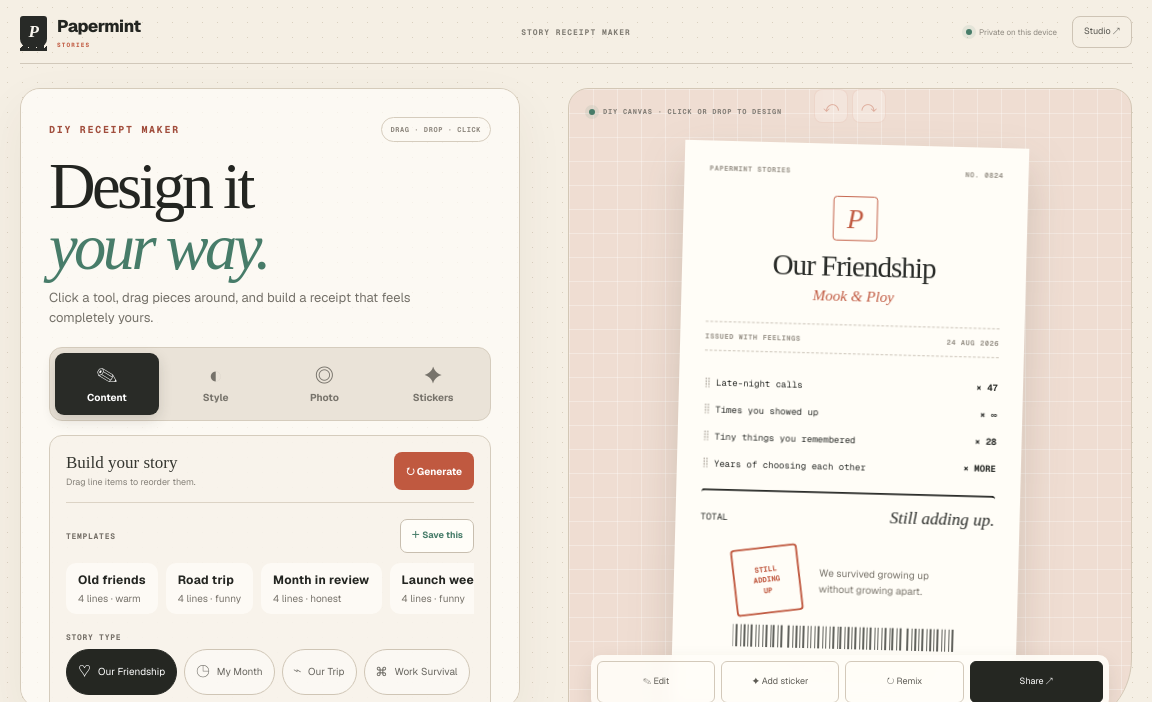
story kind › choosing a kind retitles the receipt and reseeds the name
Expected: the element with id "story-receipt" shows "Our Friendship", [772, 248, 936, 285]
Click the button "⌁ Our Trip" at (319, 672), box [282, 649, 356, 695]
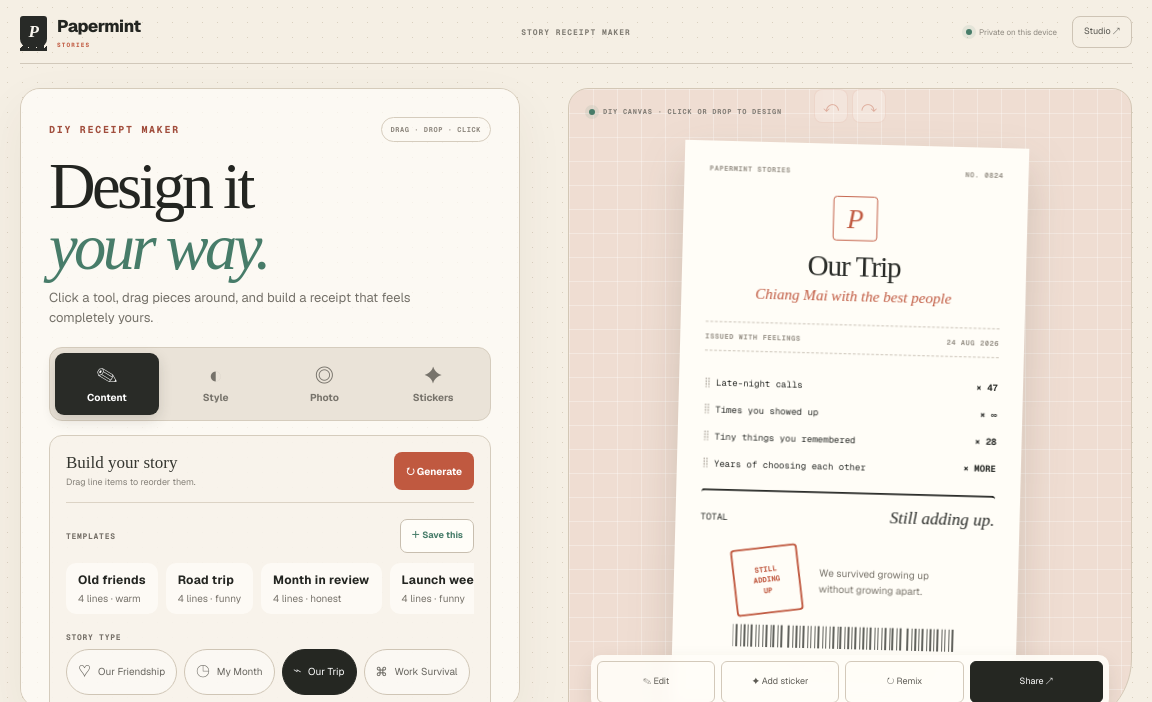
Result: the element with id "story-receipt" shows "Our Trip" at [807, 249, 901, 284]
Result: the element with id "story-receipt" shows "Chiang Mai" at [755, 286, 952, 308]
